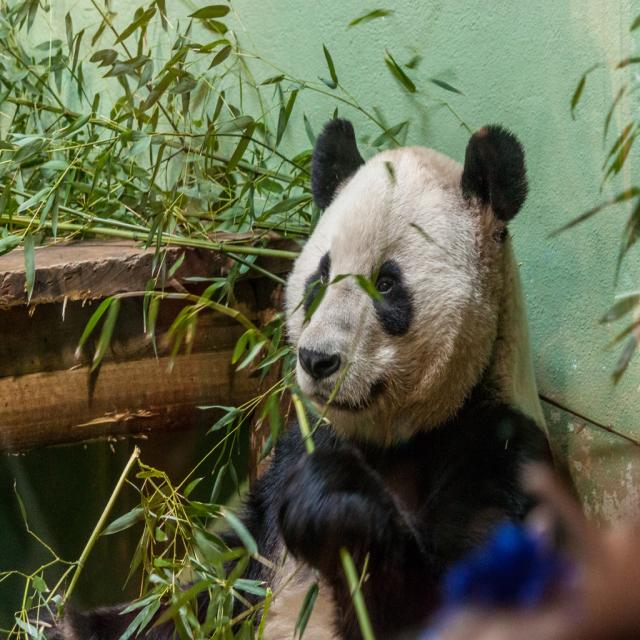panda: (42, 119, 573, 640)
